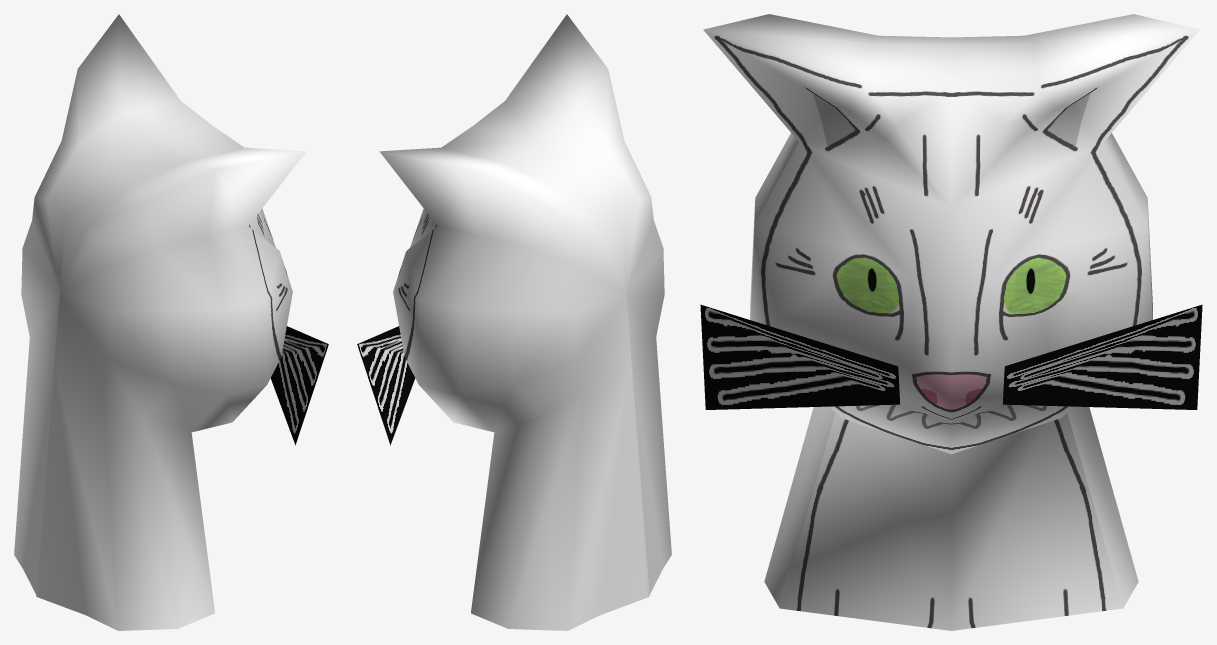
File: cat.glb
The picture shows the model from 3 angles, left to right: view 1: azimuth 30°, elevation 25°; view 2: azimuth 150°, elevation 25°; view 3: azimuth 270°, elevation 25°; orthographic projection. The views are drawn at different scales.
Parts seen in each view (by area): view 1: Cat; view 2: Cat; view 3: Cat.
Part boxes in pixels (<box>): Cat: <box>14,14,328,630</box>; Cat: <box>357,14,671,630</box>; Cat: <box>700,14,1202,630</box>.
Bounding box in the file's own units: 1.32 × 2.54 × 1.84.
Materials: 1 (1 with a texture image).
